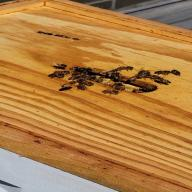Bee: (40, 59, 78, 76), (59, 80, 95, 90), (152, 66, 183, 77), (111, 63, 137, 74)
